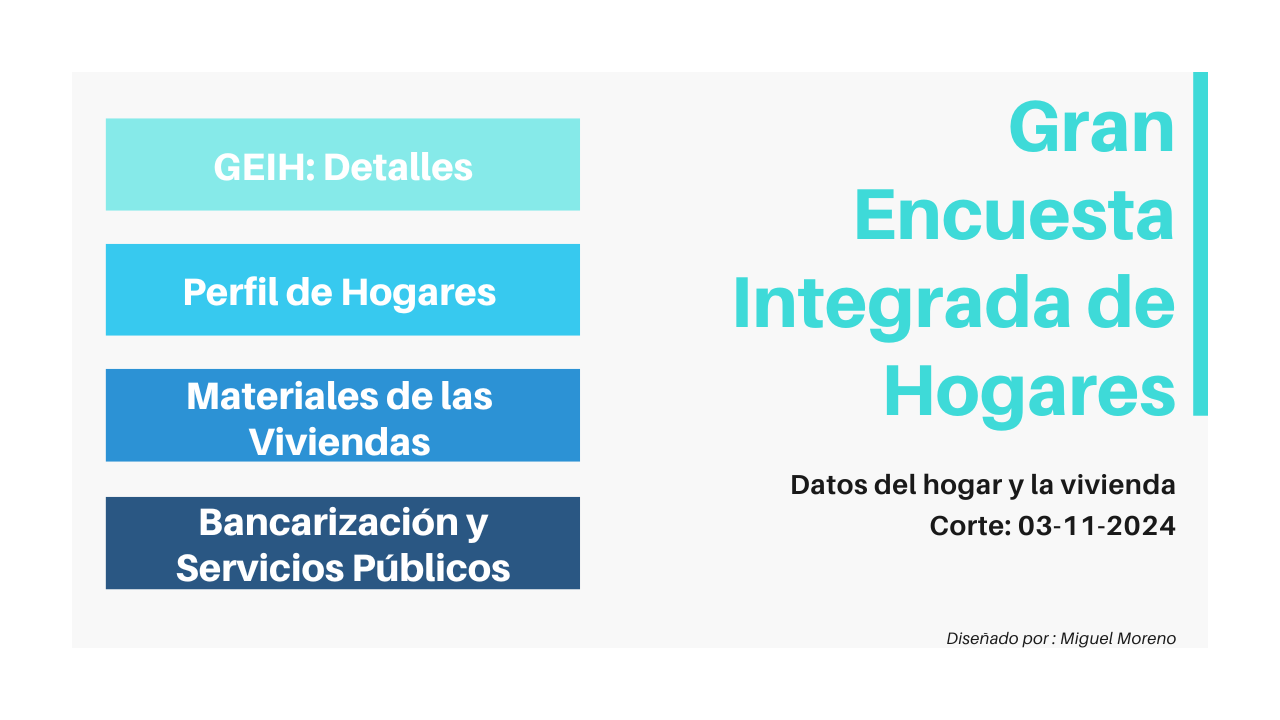

Layout of this report page (visuals, bound fields, positions):
{"tool":"tableau","page":{"name":"Home","canvas":[1280,720],"ordinal":2},"visuals":[{"type":"image","param":"Image/Home.png","box":[8,8,1264,704]},{"type":"dashboard-object","box":[124,127,456,89]},{"type":"dashboard-object","box":[126,249,456,86]},{"type":"dashboard-object","box":[124,369,457,89]},{"type":"dashboard-object","box":[125,493,457,88]},{"type":"worksheet","title":"Ref","mark":"Shape","rows":["Calculation_665969795033366534"],"box":[1084,560,80,56]}]}

Visuals, with their boxes in screenshot pixels (x1, y1, x2, y2), scaled from the page's 1280x720 canvas onto the 1280x720 screenshot:
image: bbox=(8, 8, 1272, 712)
dashboard-object: bbox=(124, 127, 580, 216)
dashboard-object: bbox=(126, 249, 582, 335)
dashboard-object: bbox=(124, 369, 581, 458)
dashboard-object: bbox=(125, 493, 582, 581)
"Ref" worksheet (Shape marks): bbox=(1084, 560, 1164, 616)
